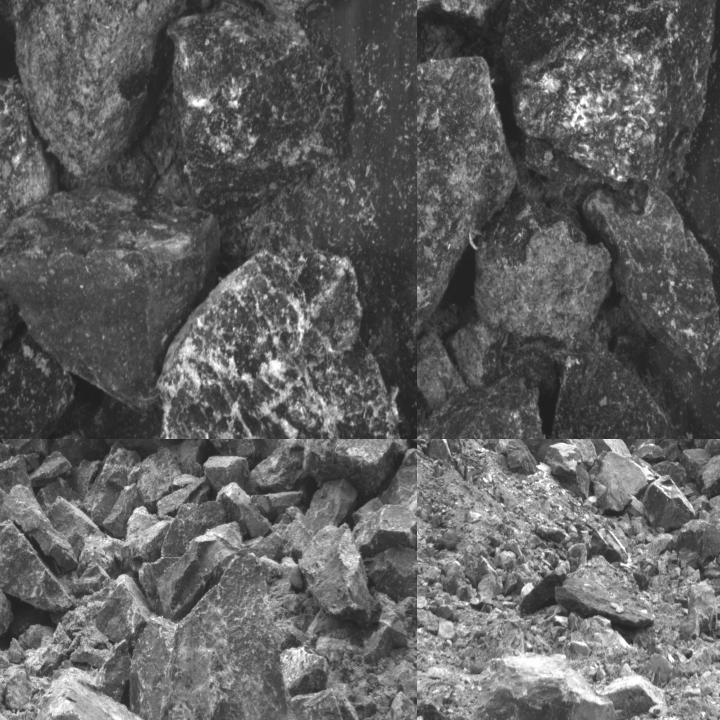stone: (99, 247, 408, 438), (0, 194, 221, 408), (504, 0, 716, 210), (161, 5, 351, 217), (132, 549, 356, 719), (417, 58, 513, 438), (2, 0, 188, 176), (586, 187, 719, 368), (473, 195, 612, 342), (525, 333, 704, 438), (0, 77, 57, 387), (468, 652, 618, 719), (153, 519, 245, 617), (0, 672, 157, 719), (0, 341, 76, 438), (560, 555, 656, 627), (300, 524, 372, 618), (0, 519, 72, 611), (302, 439, 411, 498), (281, 479, 360, 559), (96, 571, 154, 654), (354, 483, 416, 560), (88, 442, 139, 531), (590, 450, 656, 517), (446, 319, 511, 387), (417, 332, 470, 414), (164, 502, 228, 558), (249, 439, 313, 492), (641, 476, 696, 532), (543, 441, 591, 501), (136, 447, 182, 509), (365, 548, 416, 603), (515, 439, 595, 472), (678, 582, 717, 638), (675, 519, 719, 567), (290, 687, 343, 719), (695, 453, 719, 498), (622, 439, 668, 462), (507, 441, 537, 474), (680, 446, 710, 478), (427, 439, 452, 462)
